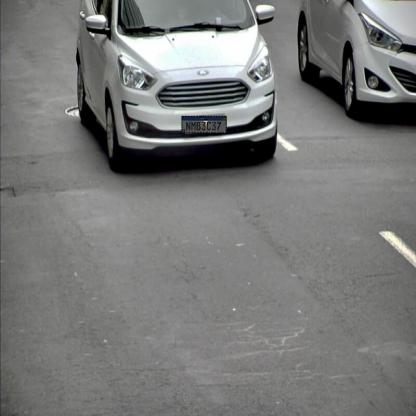PlacaM: (181, 116, 226, 133)
